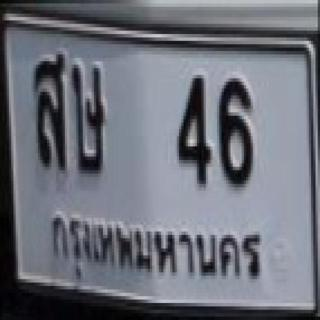A39: (70, 54, 111, 182)
A40: (27, 44, 68, 179)
N04: (166, 70, 212, 190)
N06: (213, 72, 263, 191)
P04: (45, 206, 262, 290)
